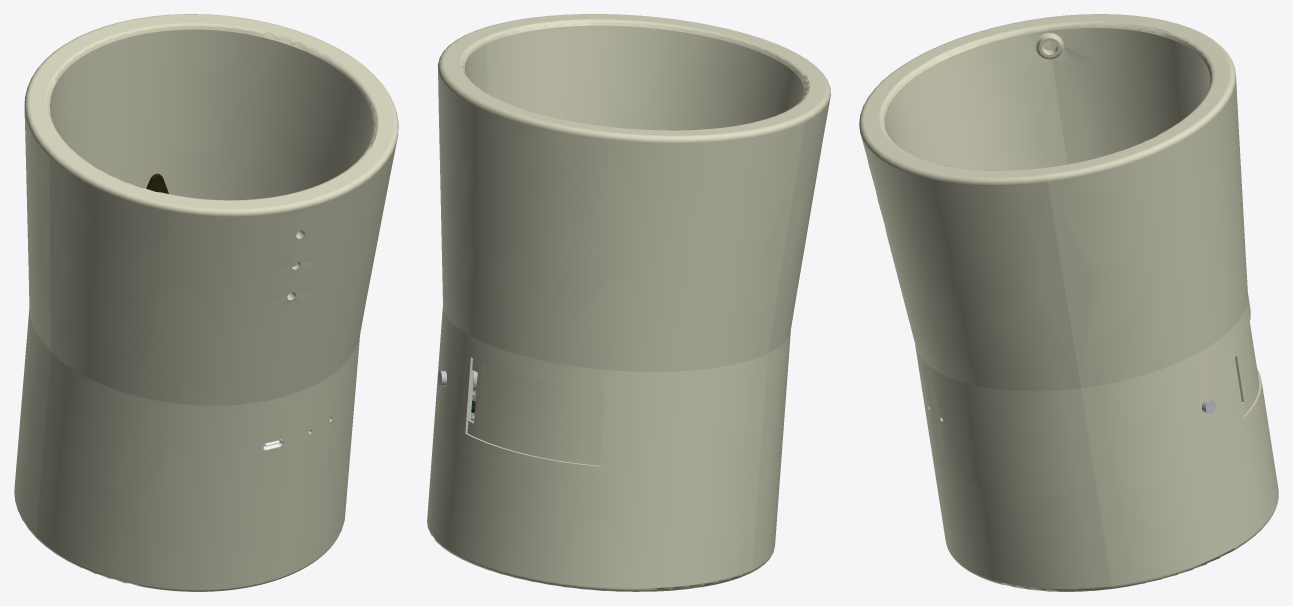
File: topf-geschlossen.glb
3 views of the same model, side by side, from view 1: azimuth 30°, elevation 25°; view 2: azimuth 150°, elevation 25°; view 3: azimuth 270°, elevation 25° (orthographic). The views are drawn at different scales.
Visible parts, largest first — view 1: TOPFMODUL_1, TANK_DUMMY; view 2: TOPFMODUL_1, TANK_DUMMY; view 3: TOPFMODUL_1, TANK_DUMMY.
Boxes of the visible parts, bbox=[...] form: TOPFMODUL_1: bbox=[21, 14, 398, 502]; TANK_DUMMY: bbox=[14, 404, 351, 591]; TOPFMODUL_1: bbox=[434, 14, 830, 486]; TANK_DUMMY: bbox=[427, 420, 782, 591]; TOPFMODUL_1: bbox=[859, 14, 1263, 495]; TANK_DUMMY: bbox=[931, 397, 1278, 591].
Size of the model in its own units: 147 by 199 by 162.
